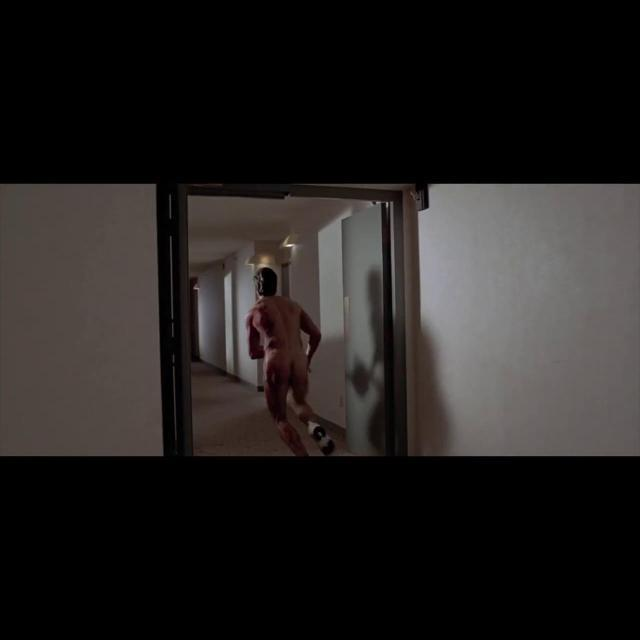blood: (246, 296, 290, 359), (265, 384, 302, 456)
